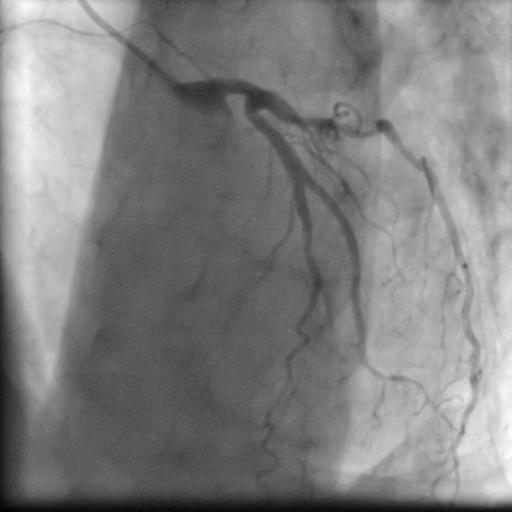Stenosis: (344, 112, 380, 144)
